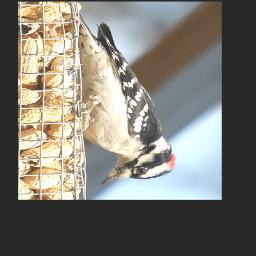Woodpecker: (72, 15, 177, 184)
